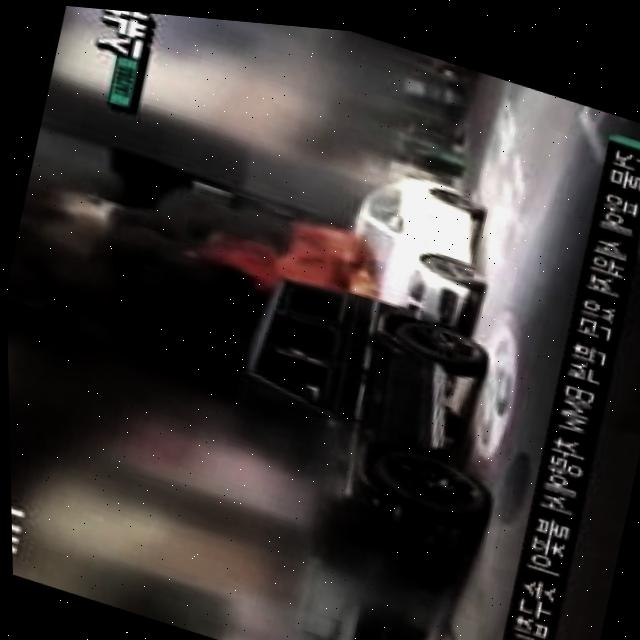Fire: (245, 200, 384, 309)
